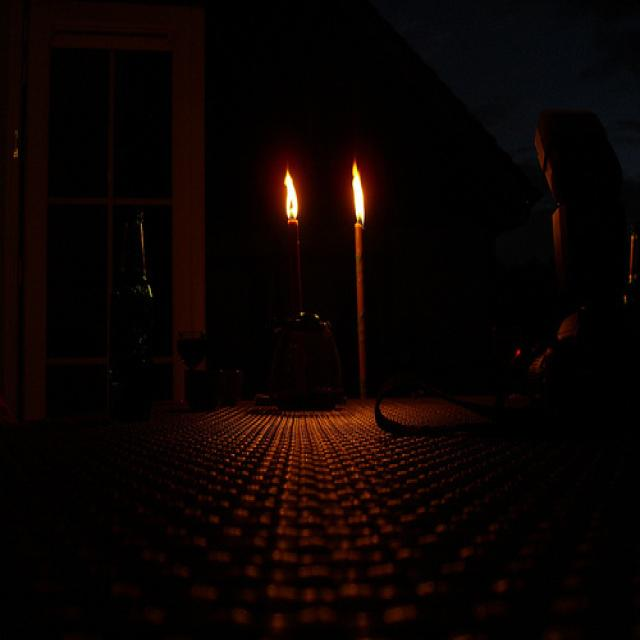Bottle: (110, 201, 166, 416)
chair: (505, 76, 640, 492)
